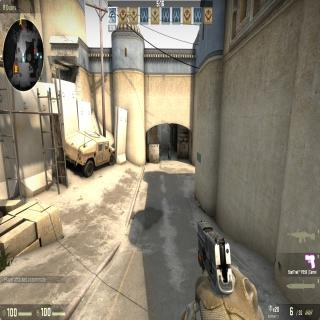T-Body: (168, 143, 170, 160), (159, 142, 161, 156)
T-Head: (168, 142, 170, 146), (159, 142, 161, 144)
